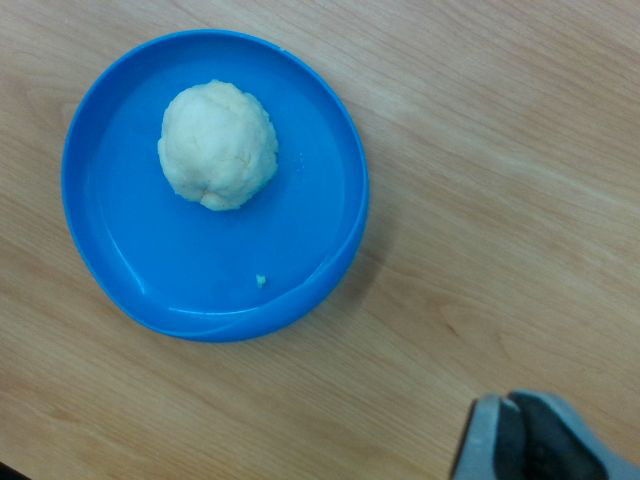mashed_potato: (157, 80, 277, 212)
